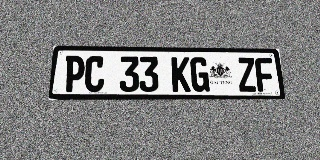3: (119, 56, 139, 92), (139, 56, 158, 92)
C: (84, 56, 105, 92)
F: (254, 58, 275, 92)
G: (190, 57, 210, 92)
K: (171, 57, 191, 92)
P: (63, 56, 85, 92)
Z: (237, 57, 257, 92)
